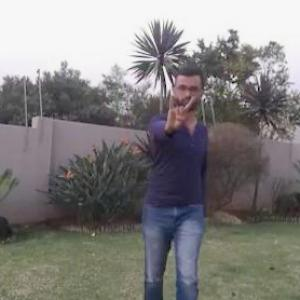takeoff-hand: (153, 89, 199, 132)
